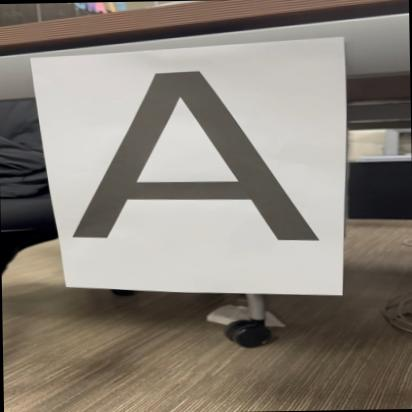seat: (58, 66, 334, 252)
